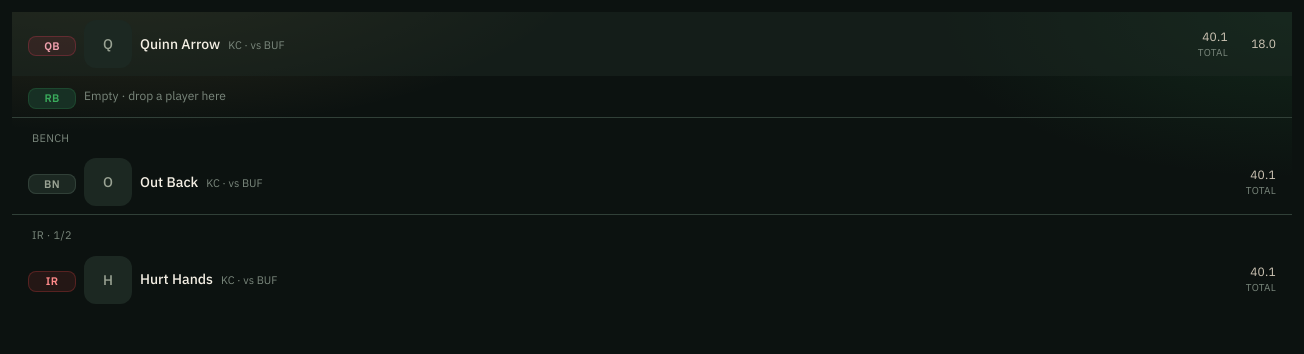
Test case: LineupBoard › offers IR only for a designation this league allows
Click the button with aria-label "Move Out Back" at (52, 182), box [28,170,76,194]
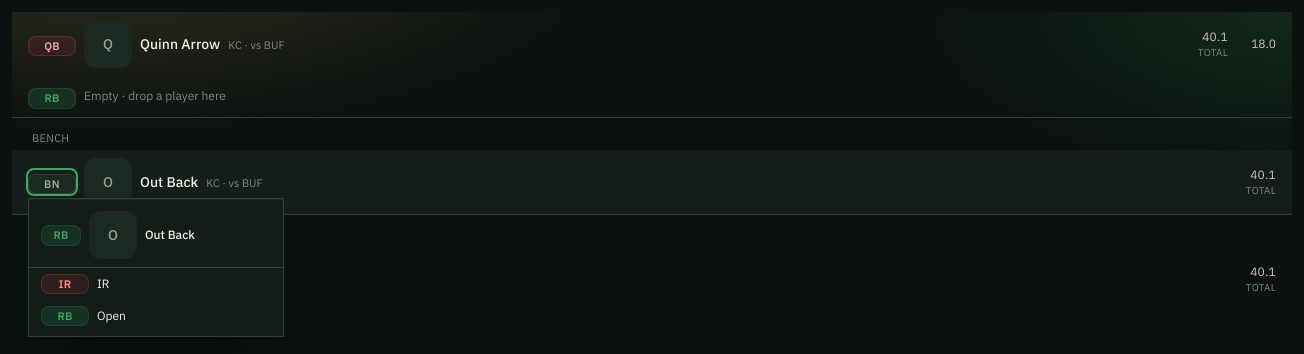
Expected: the menu item "IR IR" is shown, [29,268,283,300]
